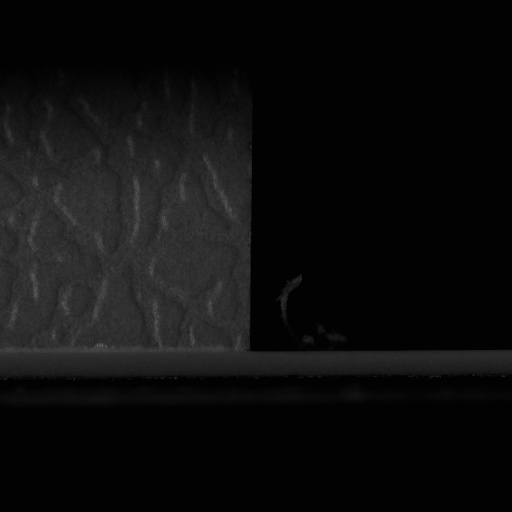changdai: (250, 349, 507, 379)
